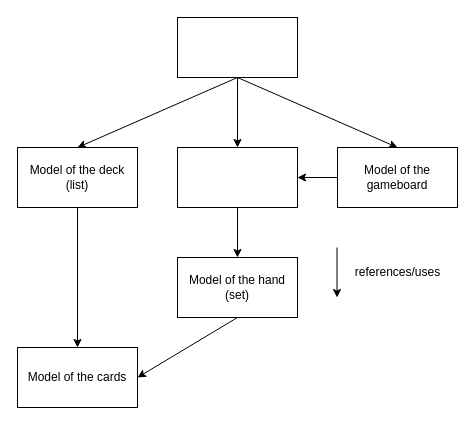
This 475x425 diagram has some shape labels left out. The centre of each missing label's shape, as x and y in pixels:
Model of the game: pixel 237 47
Model of the player: pixel 237 177
